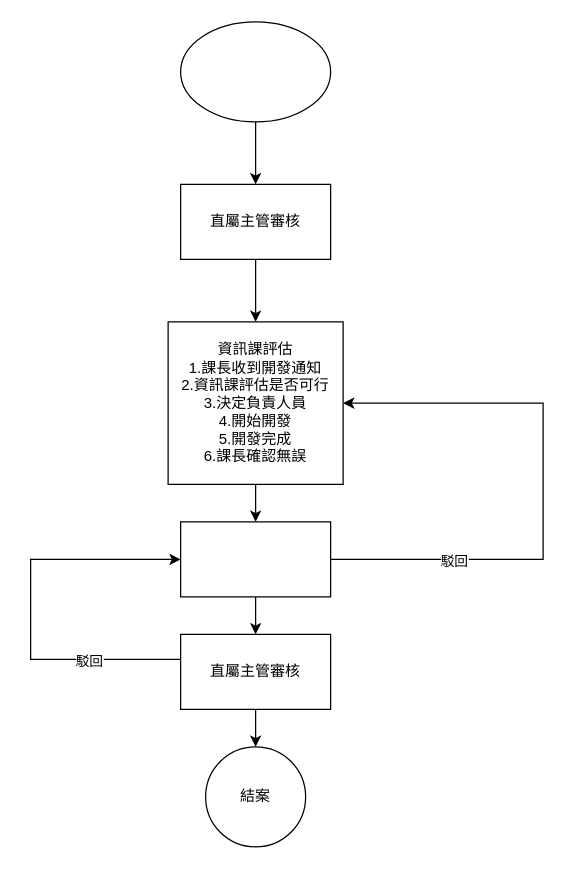
Some shapes in this 575 by 869 pixel diagram are drawn without their labels. Here are the shapes that lost their labels. From the top down, the centre of each, then its label:
At (255,71): "資料提交".
At (255,559): "申請人確認".
